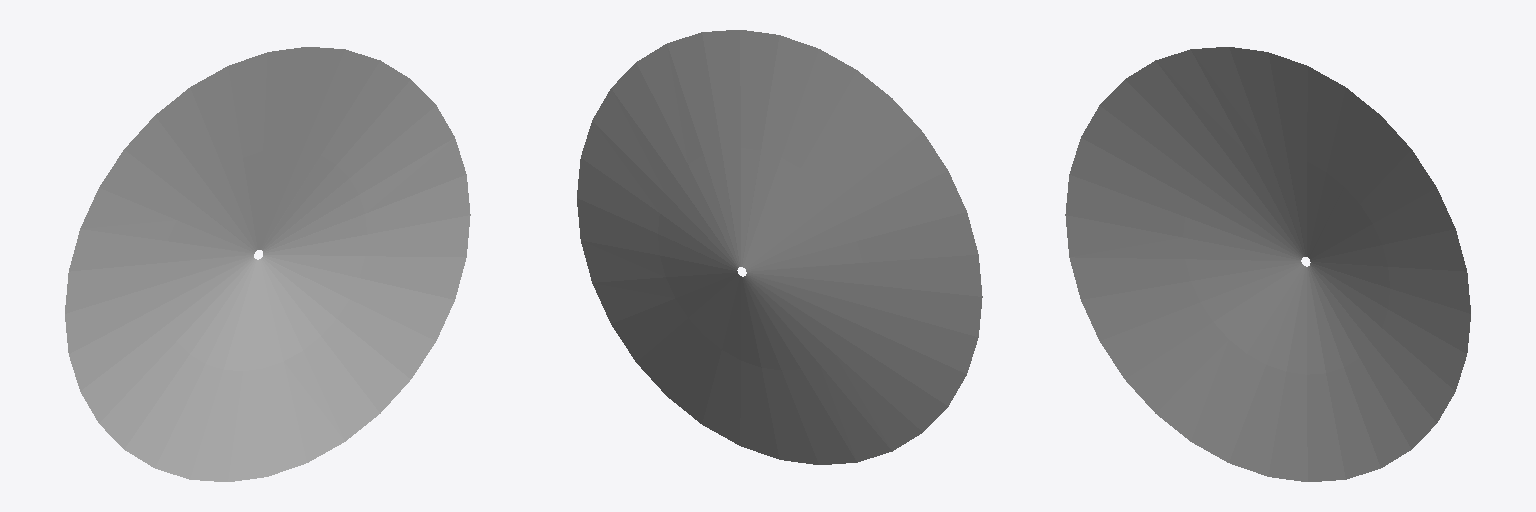
Rendered from MuzzleCones.obj.
The picture shows the model from 3 angles: view 1: azimuth 30°, elevation 25°; view 2: azimuth 150°, elevation 25°; view 3: azimuth 330°, elevation 25°; orthographic projection.
Parts seen in each view (by area): view 1: Muzzlecone; view 2: Muzzlecone; view 3: Muzzlecone.
Part boxes in pixels (left/top/right/bottom): Muzzlecone: left=65, top=47, right=470, bottom=481; Muzzlecone: left=577, top=30, right=982, bottom=464; Muzzlecone: left=1065, top=47, right=1470, bottom=481.
Size of the model in its own units: 2 by 2 by 0.1992.